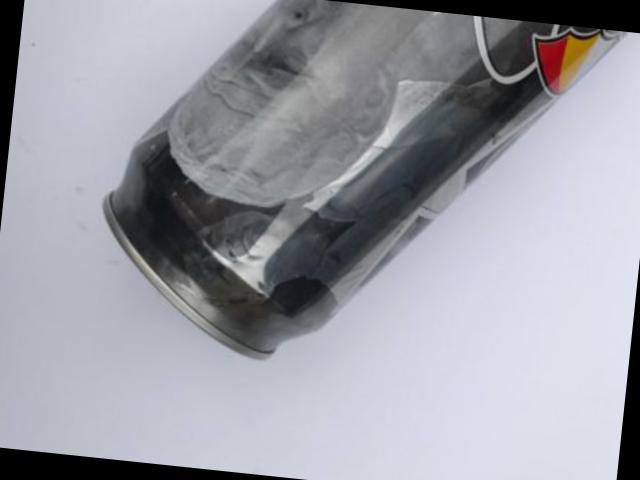metal: (106, 0, 626, 354)
